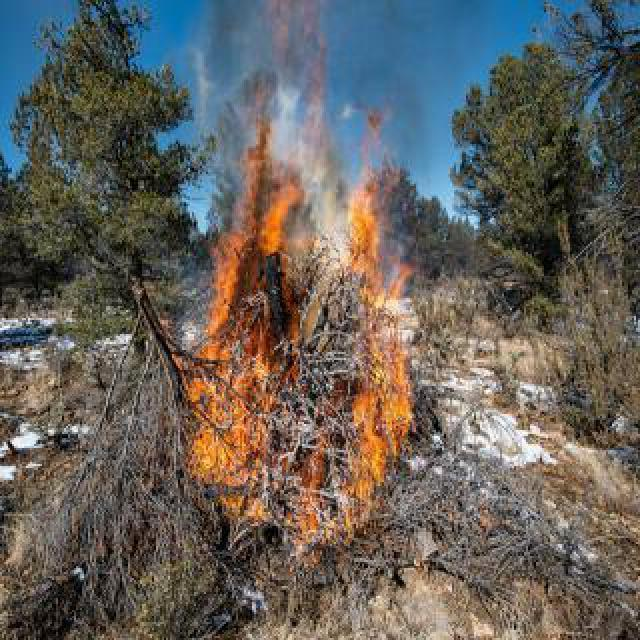Fire: (192, 202, 288, 490), (348, 340, 420, 534), (344, 192, 414, 312), (238, 492, 342, 570), (358, 102, 392, 190)
